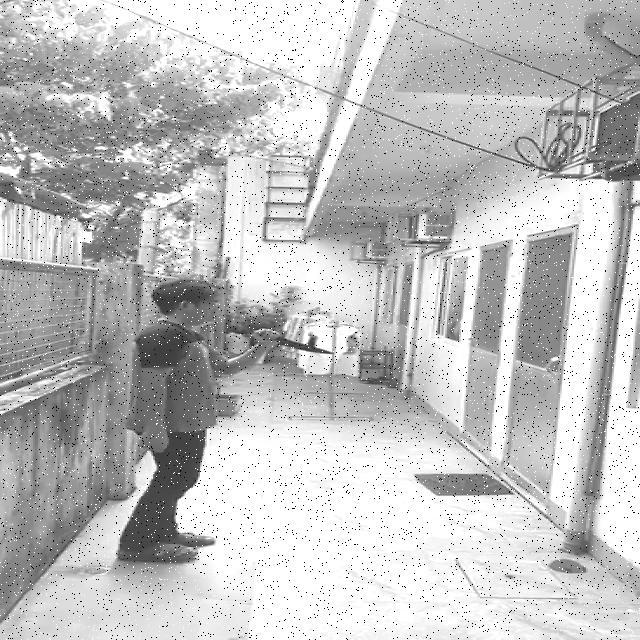knife: (246, 330, 334, 354)
non-violence: (116, 278, 332, 562)
